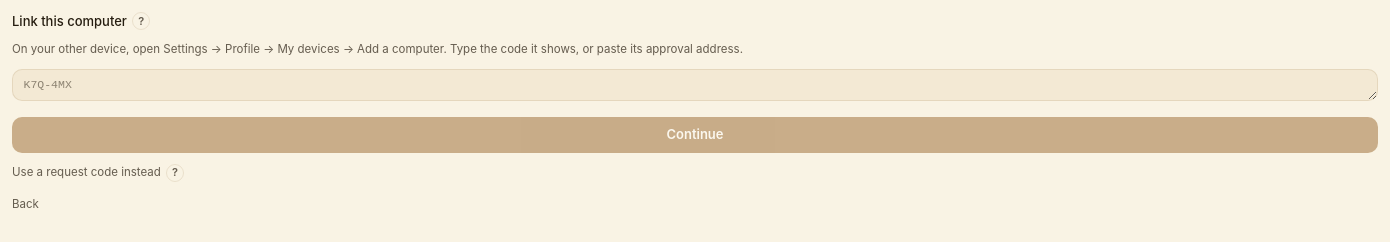
Test: LinkThisDevice › shows an error plainly and Try again posts again to the same address
This screenshot has width=1390, height=242.
Type "ligusaddr1:abc" into the text box named "The code or approval address from your other device" at (695, 85), box [12,68,1378,101]
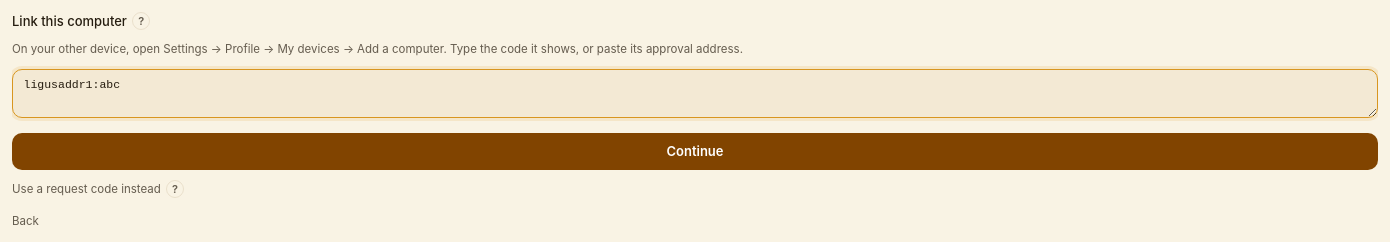
Click the button "Continue" at (695, 152), box [12,133,1378,170]
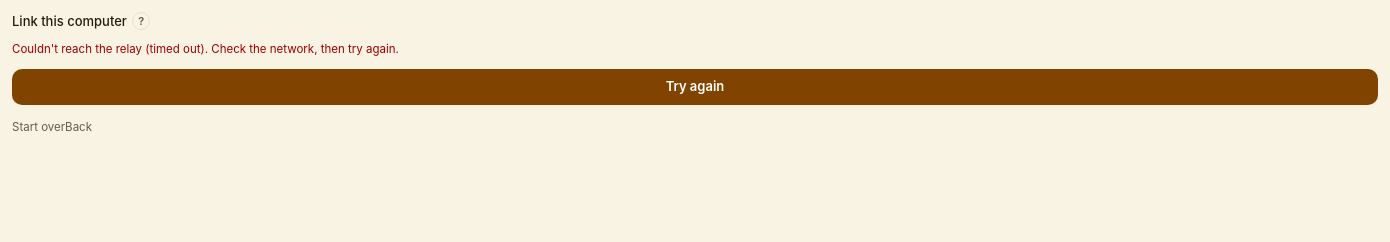
Result: the text with test id "link-error" shows "Couldn't reach the relay" at [12,42,399,56]
Click the button "Try again" at (695, 87), box [12,68,1378,105]
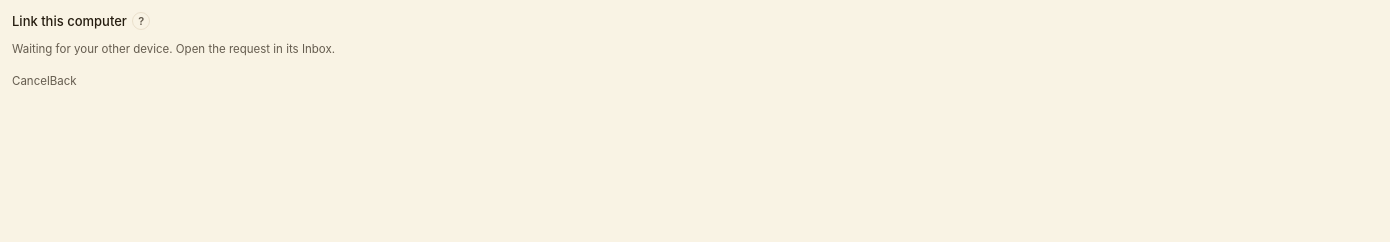
Result: the text with test id "link-waiting" is shown at [12,42,335,56]
